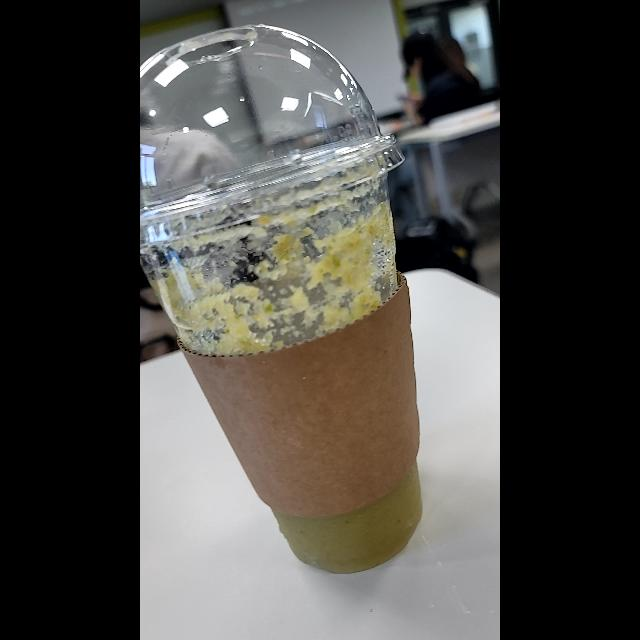plastic_cup: (142, 32, 460, 582)
plastic_cup_lid: (140, 7, 407, 232)
